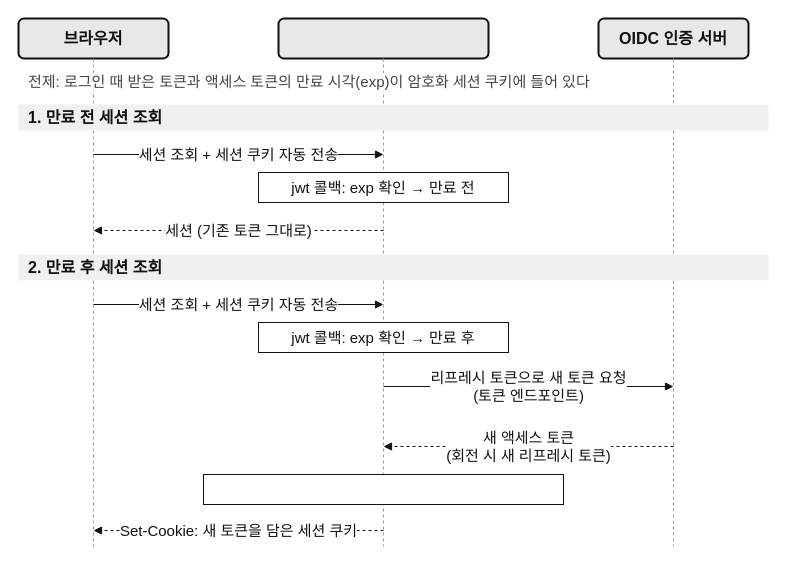
The diagram is 785 pixels wide and 565 high, and some of its shapes have lost their labels. Each missing label, with the centre of its shape:
"NextAuth.js (Next.js)" belongs at pixel 383 38.
"새 리프레시 토큰이 오면 교체, 없으면 기존 유지" belongs at pixel 383 489.
